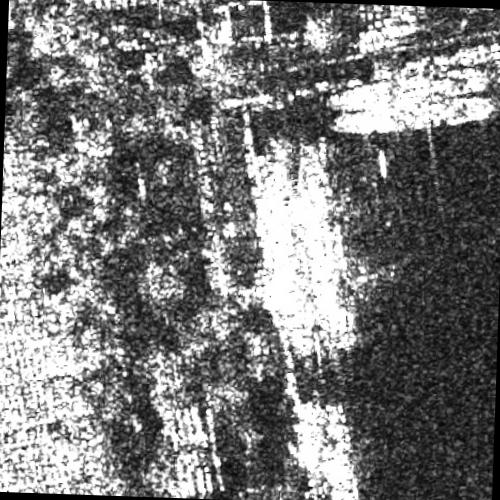ship: (294, 138, 360, 356), (325, 66, 492, 112), (328, 95, 499, 136)
